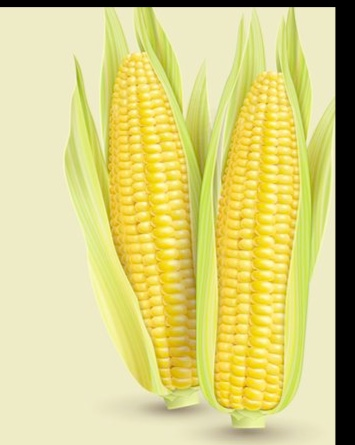corn: (95, 13, 215, 414), (200, 37, 315, 426)
